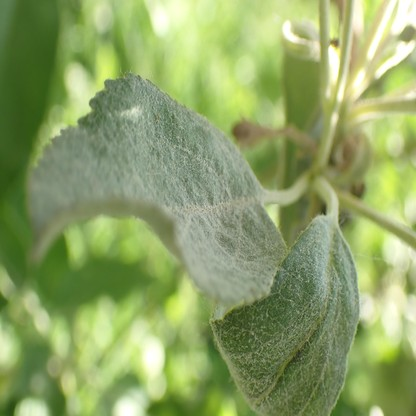powder: (24, 72, 288, 301), (209, 216, 360, 414)
